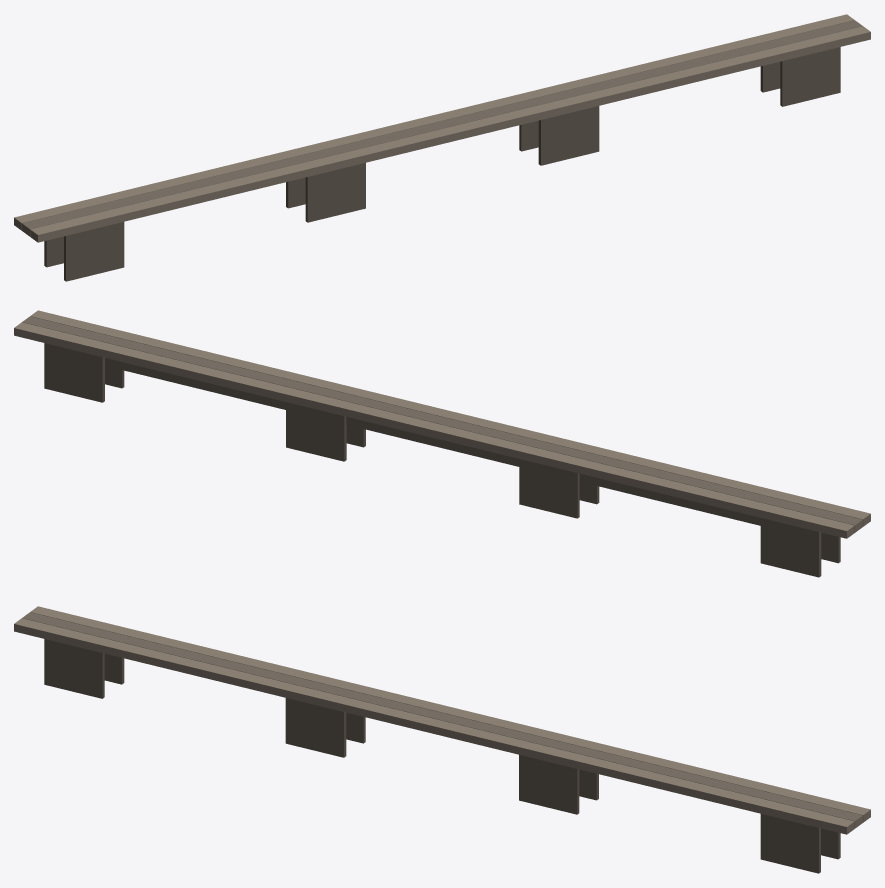
Rendered from dining_table.glb.
The picture shows the model from 3 angles, top to bottom: view 1: azimuth 30°, elevation 25°; view 2: azimuth 150°, elevation 25°; view 3: azimuth 330°, elevation 25°; orthographic projection.
Parts seen in each view (by area): view 1: dining_table; view 2: dining_table; view 3: dining_table.
Boxes of the visible parts, <box> form: dining_table: <box>14,14,870,281</box>; dining_table: <box>14,310,870,577</box>; dining_table: <box>14,606,870,873</box>.
Size of the model in its own units: 12 by 0.75 by 0.6.
